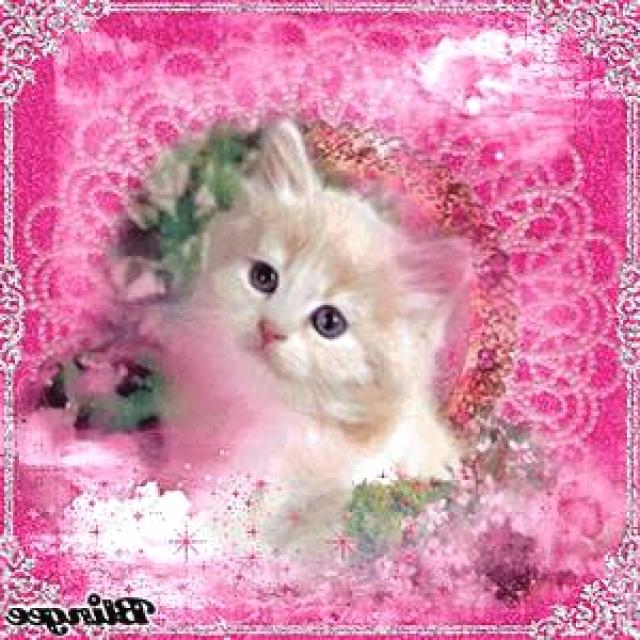KEDI: (102, 104, 470, 542)
